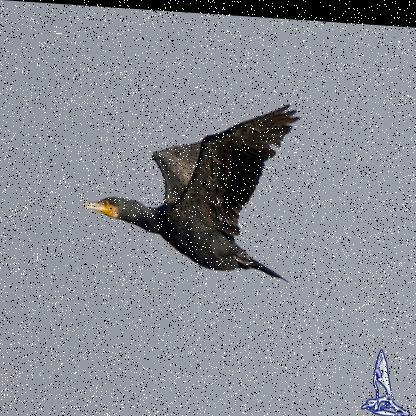Burung: (79, 86, 305, 282)
